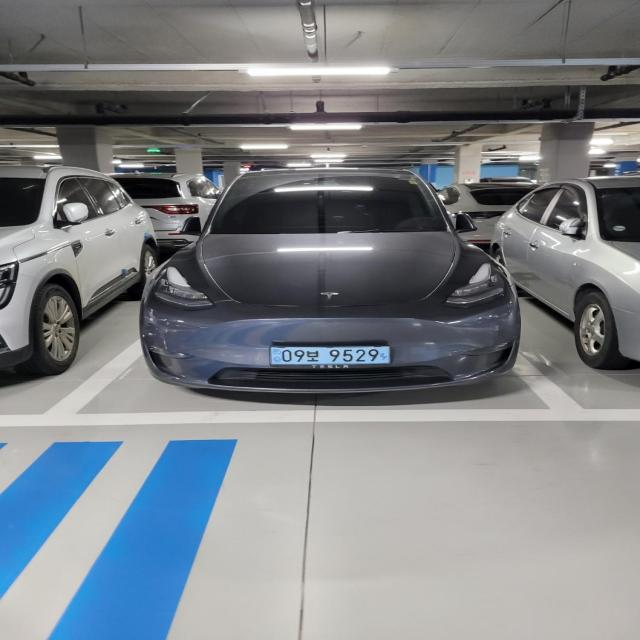EV_plate: (266, 340, 393, 370)
car: (140, 163, 522, 402)
